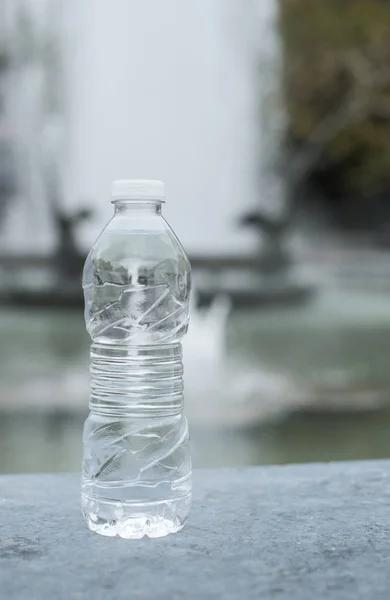bottle: (71, 168, 200, 549)
